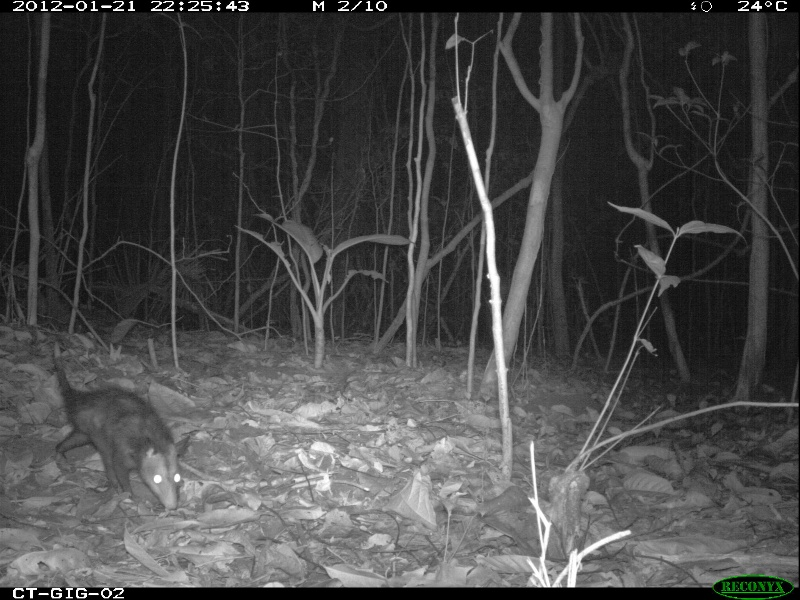opossum: (43, 341, 192, 512)
